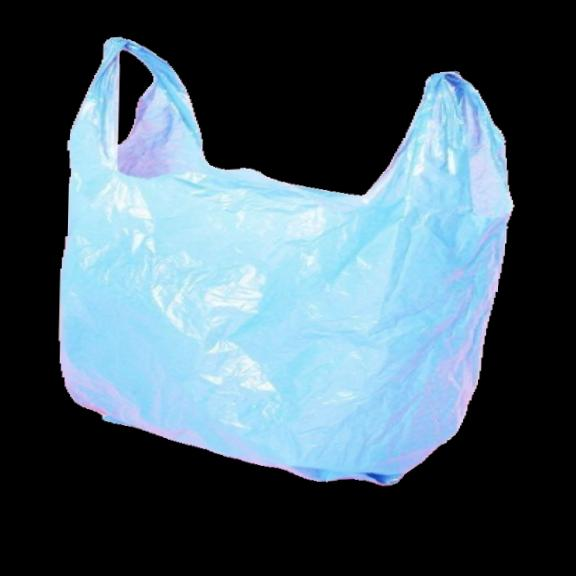Plastik: (49, 5, 503, 515)
